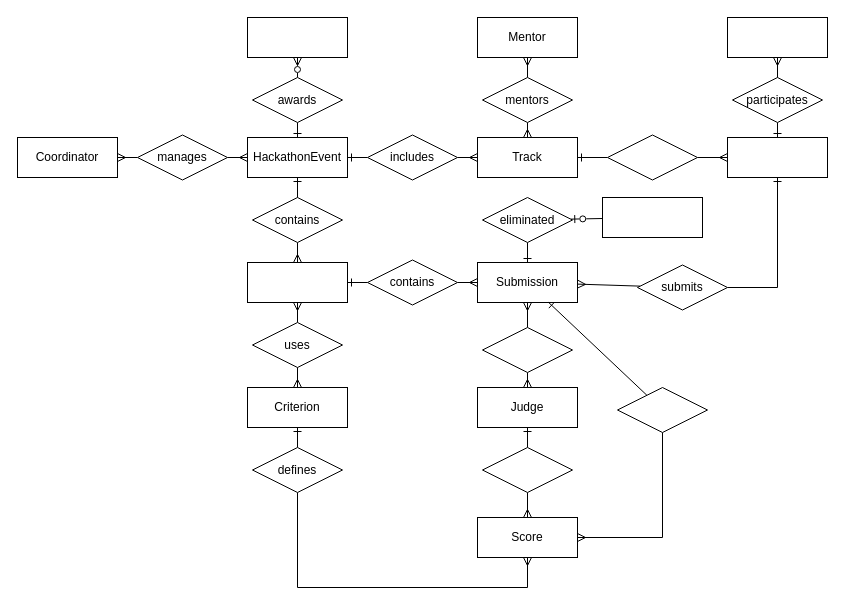
Some shapes in this 845 by 613 pixel diagram are drawn without their labels. The centre of each missing label's shape, as x and y in pixels:
EliminationRecord: (652,217)
evaluates: (527,349)
gives: (527,469)
has: (652,157)
Prize: (297,37)
receives: (662,409)
Round: (297,282)
Student: (777,37)
Team: (777,157)
